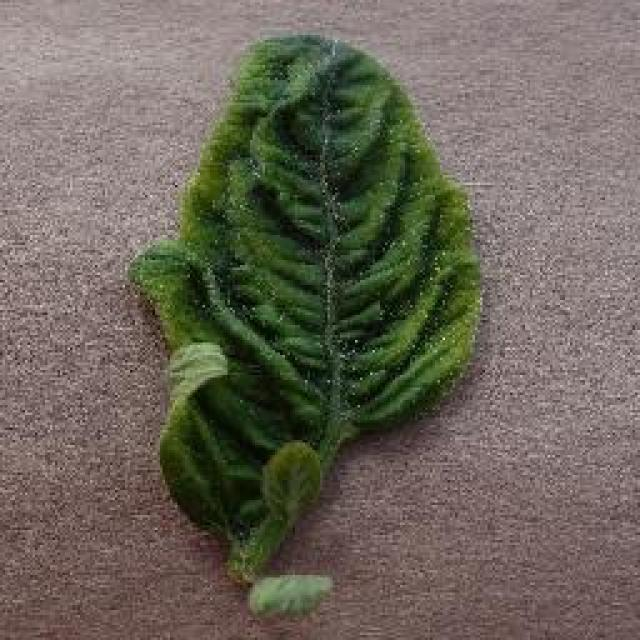Tom_Yellow_Leaf_Curl_Virus: (170, 61, 480, 540)
